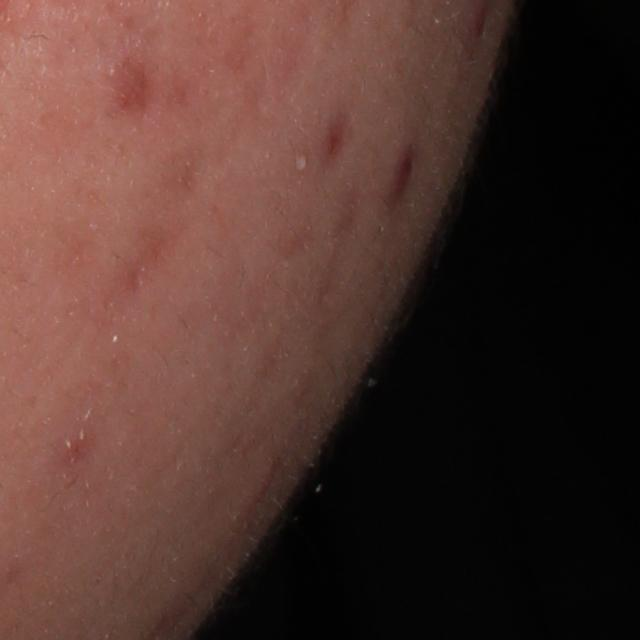papule: (99, 56, 153, 117), (388, 143, 418, 201)
